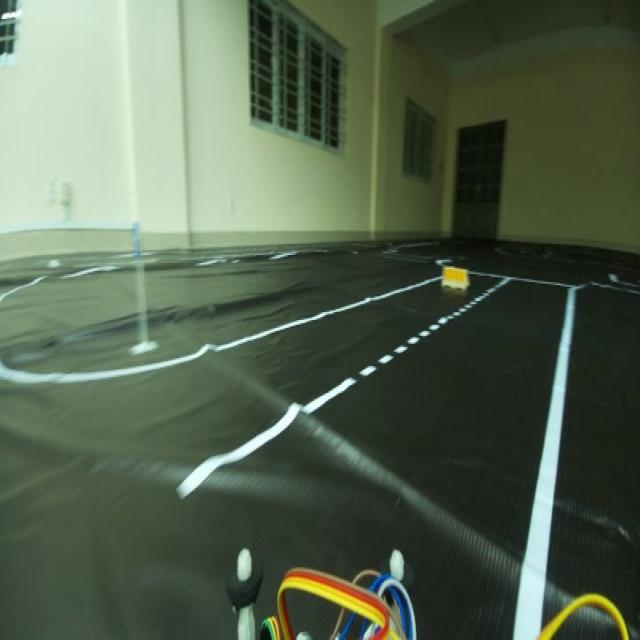onewayroad: (128, 215, 146, 268)
roadblock: (440, 260, 471, 288)
